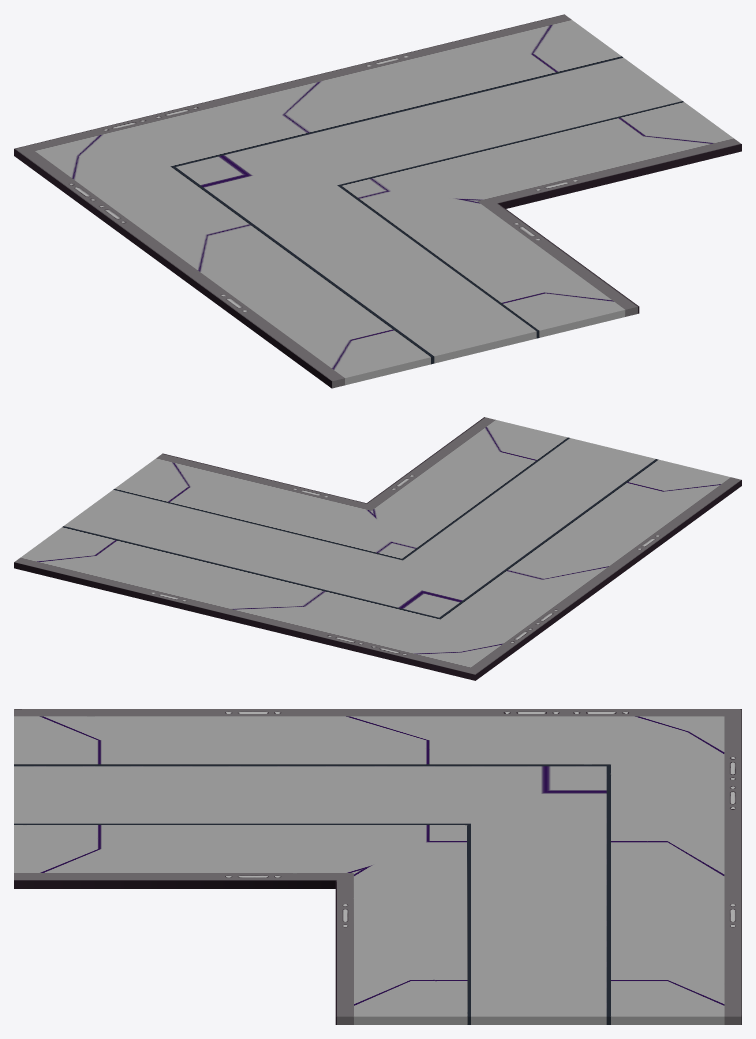
The model's file is KF_SM_LSideW005.fbx.
3 views of the same model, one above another, from view 1: azimuth 30°, elevation 25°; view 2: azimuth 150°, elevation 25°; view 3: azimuth 270°, elevation 25° (orthographic). The views are drawn at different scales.
Parts seen in each view (by area): view 1: KF_SM_LSideW005; view 2: KF_SM_LSideW005; view 3: KF_SM_LSideW005.
Part boxes in pixels (x1,y1,x2,y2): KF_SM_LSideW005: [14, 14, 741, 388]; KF_SM_LSideW005: [14, 417, 741, 680]; KF_SM_LSideW005: [14, 709, 741, 1024].
Size of the model in its own units: 4014 by 50 by 4014.
1 material, 1 textured.
